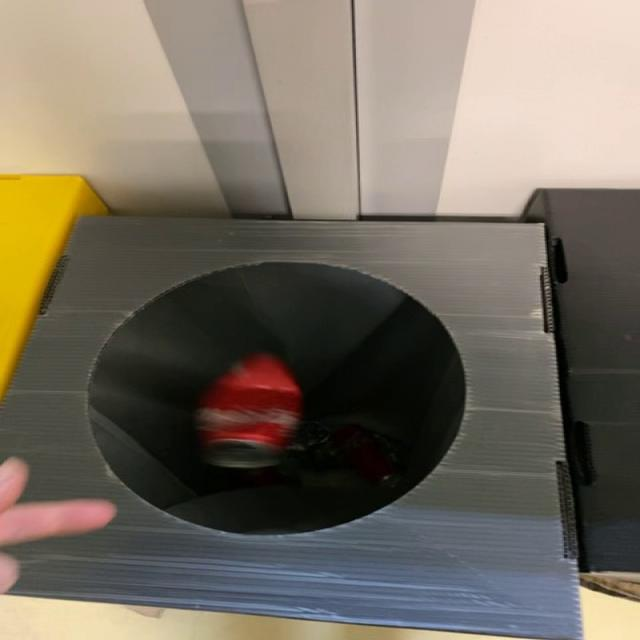bin: (1, 219, 583, 640)
metal: (195, 354, 303, 470)
